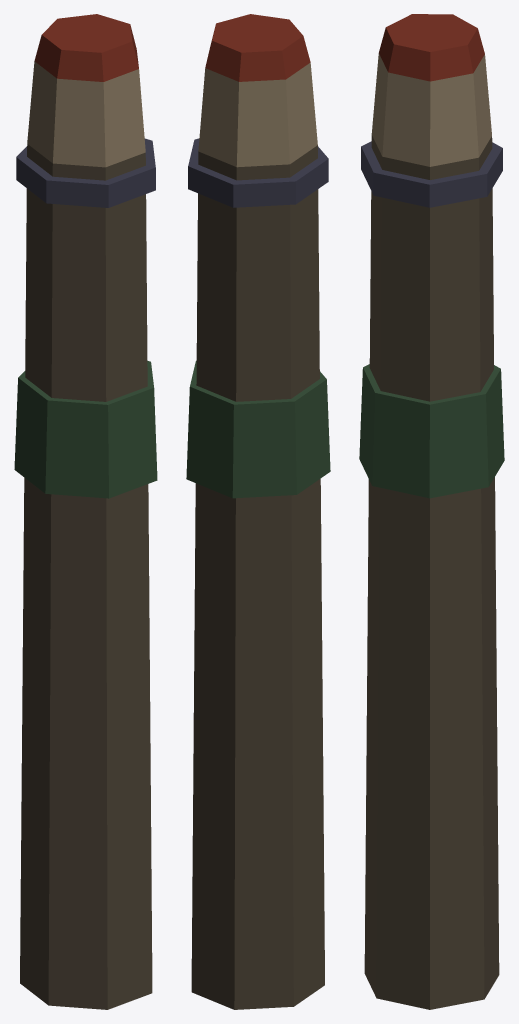
File: mooring_post.glb
3 views of the same model, side by side, from view 1: azimuth 30°, elevation 25°; view 2: azimuth 150°, elevation 25°; view 3: azimuth 270°, elevation 25° (orthographic).
Parts seen in each view (by area): view 1: driftwood_d60, moss_d45, driftwood_d30, coal_d35, ink_l15; view 2: driftwood_d60, moss_d45, driftwood_d30, coal_d35, ink_l15; view 3: driftwood_d60, moss_d45, driftwood_d30, coal_d35, ink_l15.
Boxes of the visible parts, x1,y1,x2,y2 form: driftwood_d60: (20,144,152,1009); moss_d45: (14,360,157,498); driftwood_d30: (27,61,145,167); coal_d35: (34,14,138,81); ink_l15: (16,138,155,207); driftwood_d60: (191,145,324,1009); moss_d45: (186,360,330,498); driftwood_d30: (198,62,317,167); coal_d35: (205,14,310,81); ink_l15: (188,138,328,207); driftwood_d60: (364,135,499,1009); moss_d45: (359,364,504,498); driftwood_d30: (371,53,491,166); coal_d35: (379,14,484,81); ink_l15: (361,141,502,207).
Size of the model in its own units: 0.3918 by 2.88 by 0.3996.
